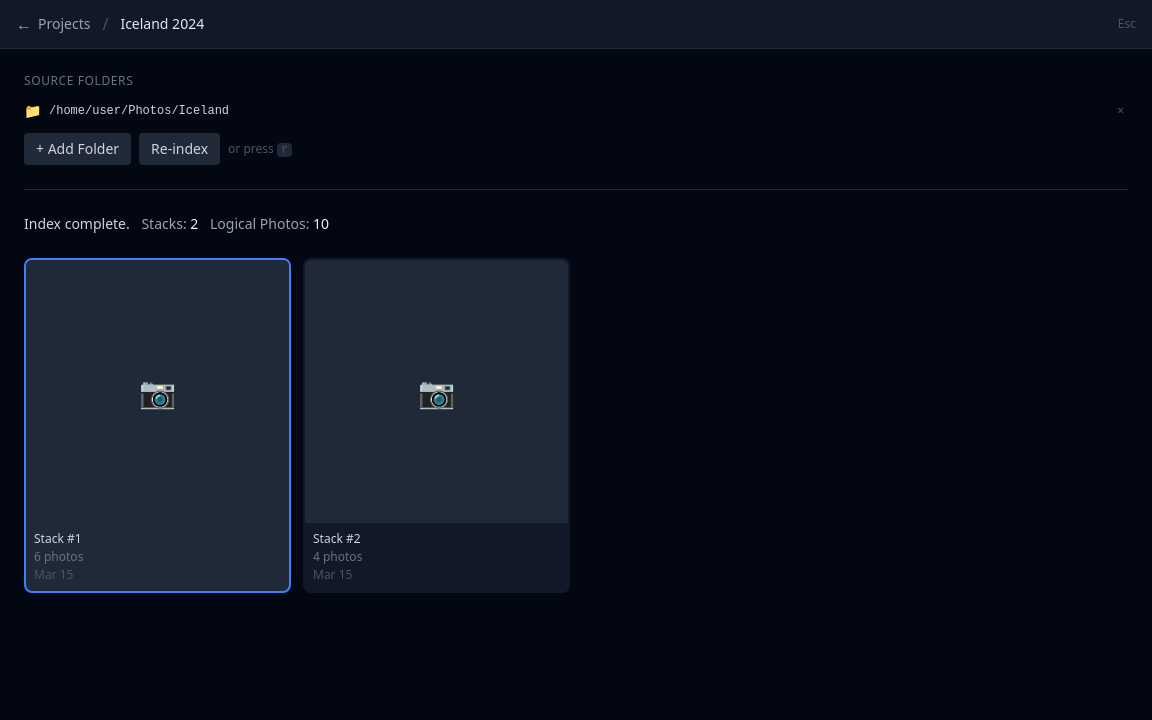
Test: StackOverview — SO-36: burst gap recalculating message › shows "Recalculating stacks…" during saveBurstGap
Open burst panel
Press b
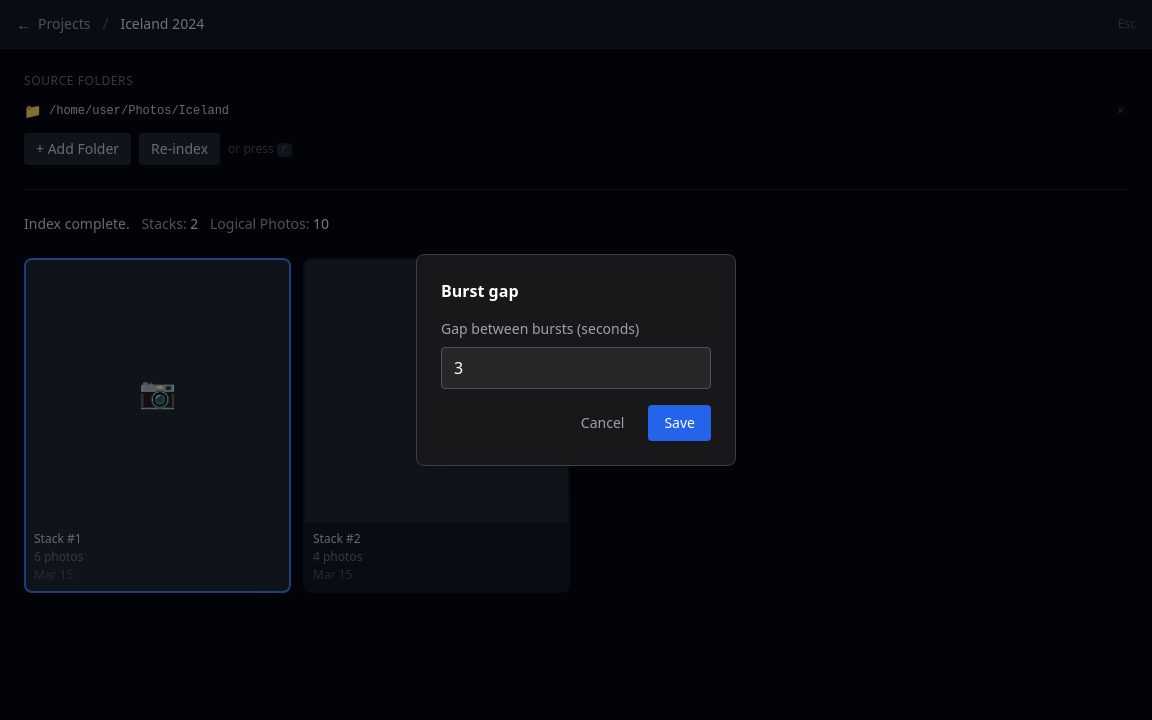
expect the heading "Burst gap" is shown: met, box [441,280,518,302]
Click the button "Save". click: (680, 423)
box: [648,405,711,441]
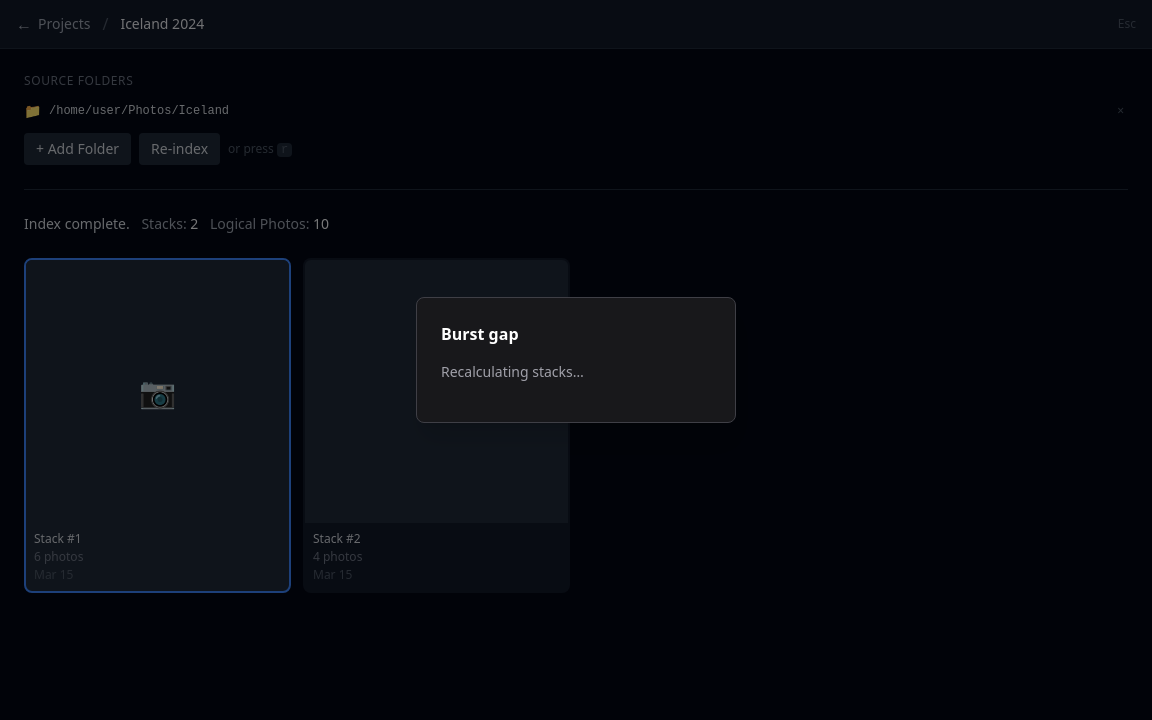
expect the text "Recalculating stacks…" is shown: met, box [441,362,584,381]
